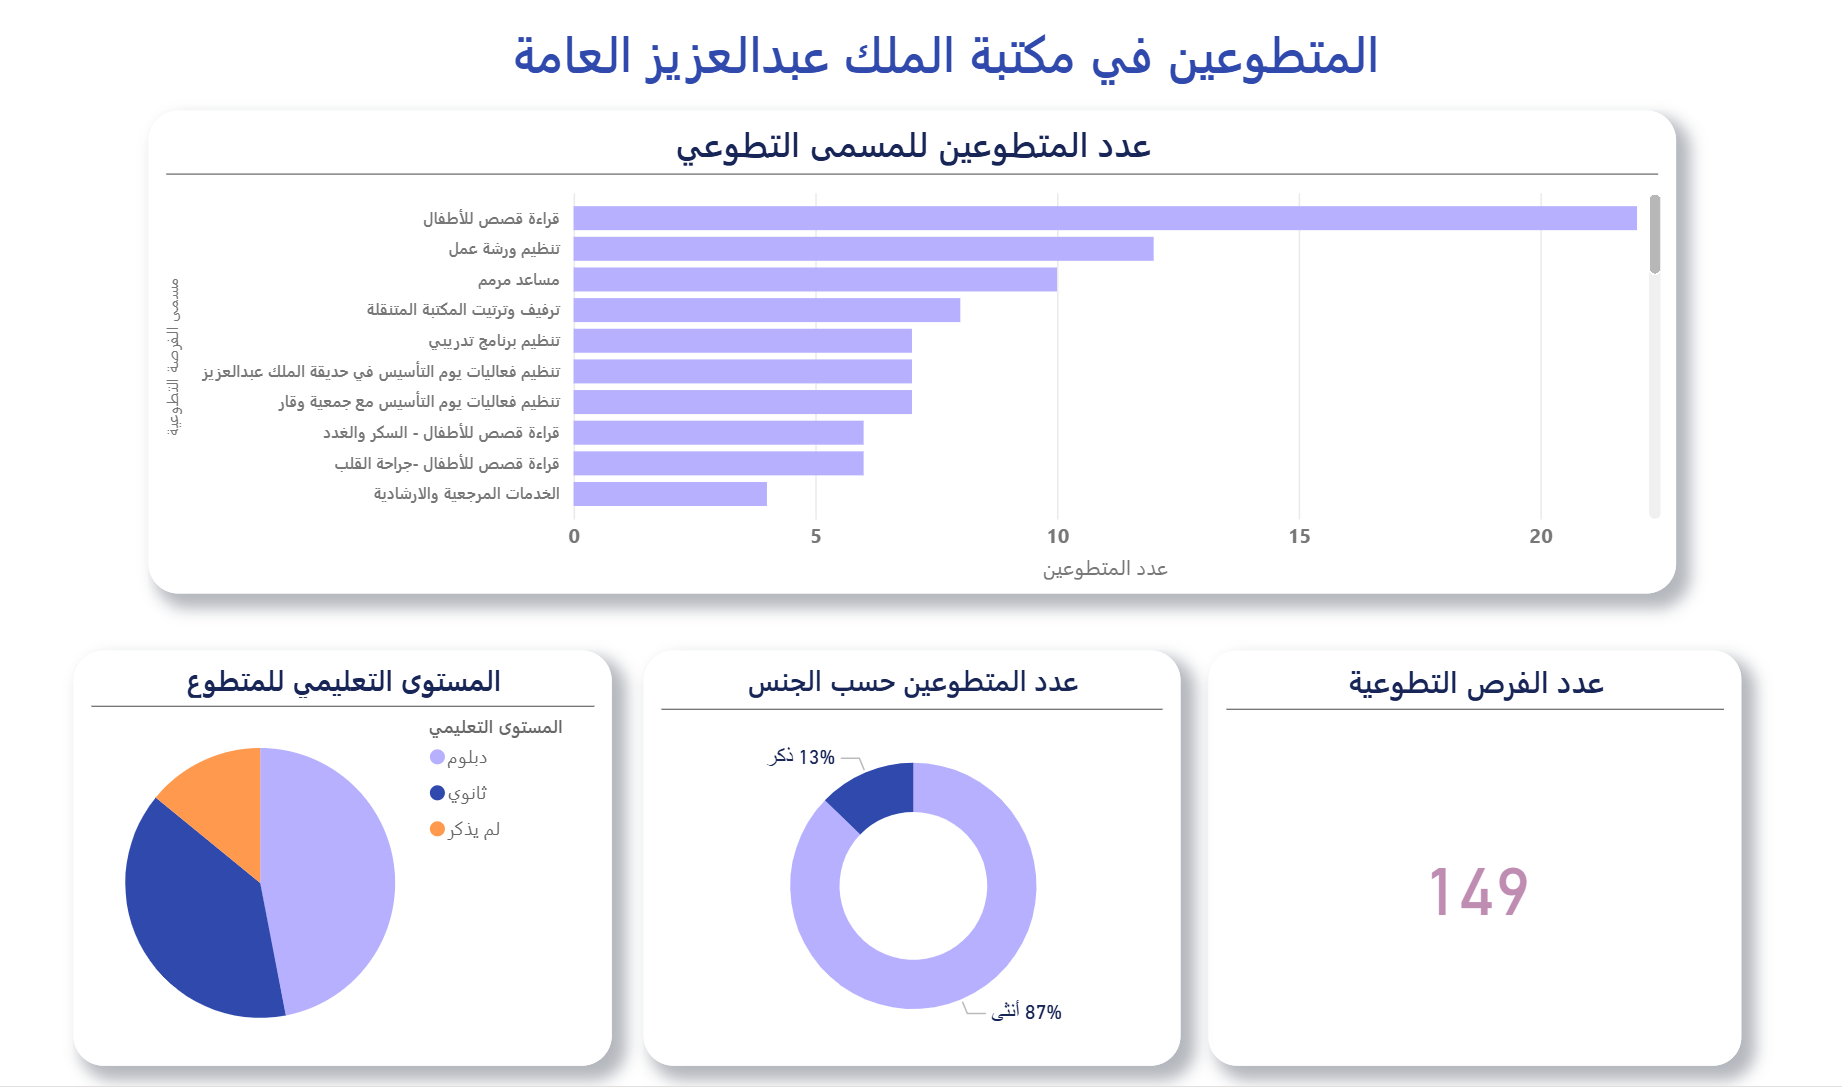

This screenshot's page, from the dashboard's own definition file:
{"tool":"powerbi","page":{"name":"Page 1","canvas":[1280,720],"ordinal":0},"visuals":[{"type":"donutChart","title":"عدد المتطوعين حسب الجنس","fields":{"Y":["CountNonNull(مجموعة بيانات المتطوعين 33.الجنس)"],"Category":["مجموعة بيانات المتطوعين 33.الجنس"]},"box":[479.1,435.4,359.4,284.9],"z":0},{"type":"pieChart","title":"المستوى التعليمي للمتطوع ","fields":{"Y":["CountNonNull(مجموعة بيانات المتطوعين 33.المستوى التعليمي)"],"Category":["مجموعة بيانات المتطوعين 33.المستوى التعليمي"]},"box":[71.2,441.9,359.4,278.4],"z":1000},{"type":"clusteredBarChart","title":"عدد المتطوعين للمسمى التطوعي ","fields":{"Category":["مجموعة بيانات المتطوعين 33.مسمى الفرصة التطوعية"],"Y":["CountNonNull(مجموعة بيانات المتطوعين 33.مسمى الفرصة التطوعية)"]},"box":[131.1,100.4,1018.2,322.1],"z":2000},{"type":"card","title":"عدد الفرص التطوعية ","fields":{"Values":["CountNonNull(مجموعة بيانات المتطوعين 33.مسمى الفرصة التطوعية)"]},"box":[887.1,441.9,356.1,278.4],"z":3000},{"type":"textbox","box":[262.2,27.5,802.9,87.4],"z":3001}]}

Visuals, with their boxes on the page's 1280x720 design canvas (x1, y1, x2, y2). These are canvas units, not pixel positions in the 1842x1087 screenshot, which may show the page scaled, cropped or inside an application window:
"عدد المتطوعين حسب الجنس" donutChart: [479,435,838,720]
"المستوى التعليمي للمتطوع " pieChart: [71,442,431,720]
"عدد المتطوعين للمسمى التطوعي " clusteredBarChart: [131,100,1149,422]
"عدد الفرص التطوعية " card: [887,442,1243,720]
textbox: [262,28,1065,115]
